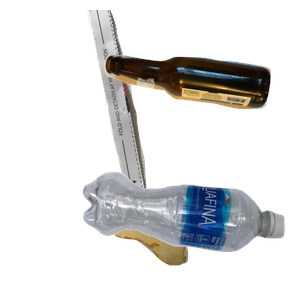glass: (101, 52, 300, 154)
paper: (85, 10, 224, 190)
plastic: (80, 169, 300, 300)
trash: (96, 181, 277, 300)
